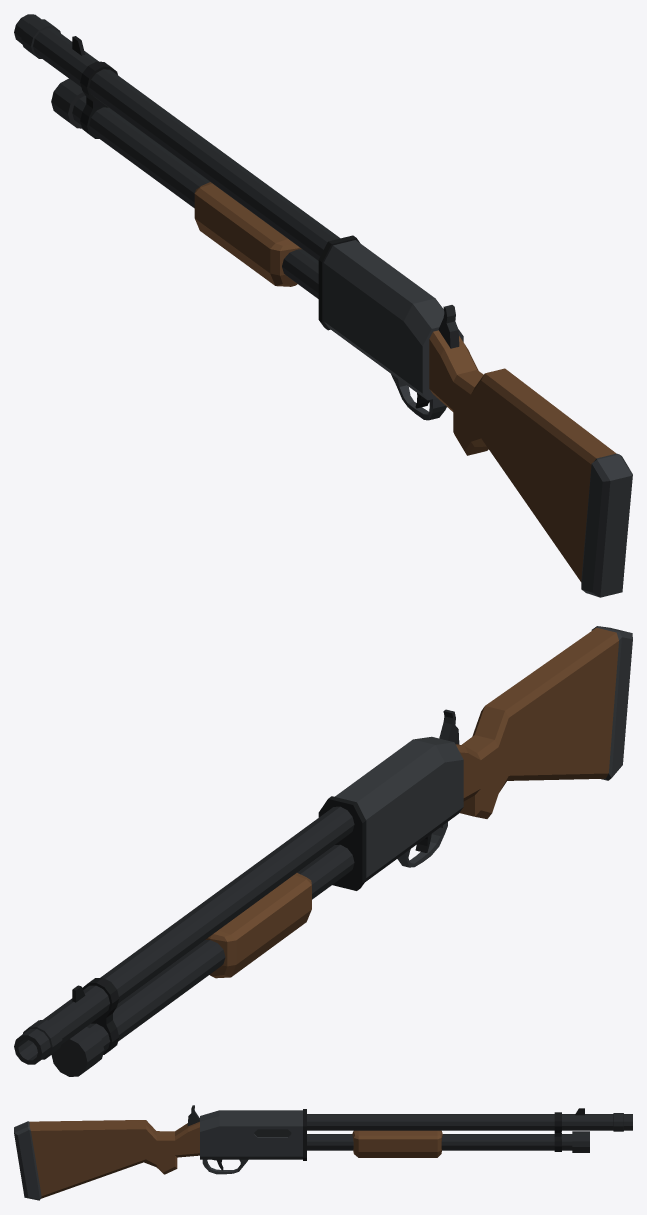
File: shotgun.glb
3 views of the same model, one above another, from view 1: azimuth 30°, elevation 25°; view 2: azimuth 150°, elevation 25°; view 3: azimuth 270°, elevation 25° (orthographic). The views are drawn at different scales.
Visible parts, largest first — view 1: weapon_shotgun; view 2: weapon_shotgun; view 3: weapon_shotgun.
Part boxes in pixels (box(x1,y1,x2,y2)): weapon_shotgun: box(14, 14, 632, 597); weapon_shotgun: box(14, 626, 632, 1076); weapon_shotgun: box(14, 1105, 632, 1200).
Size of the model in its own units: 0.0435 by 0.1662 by 1.02.
